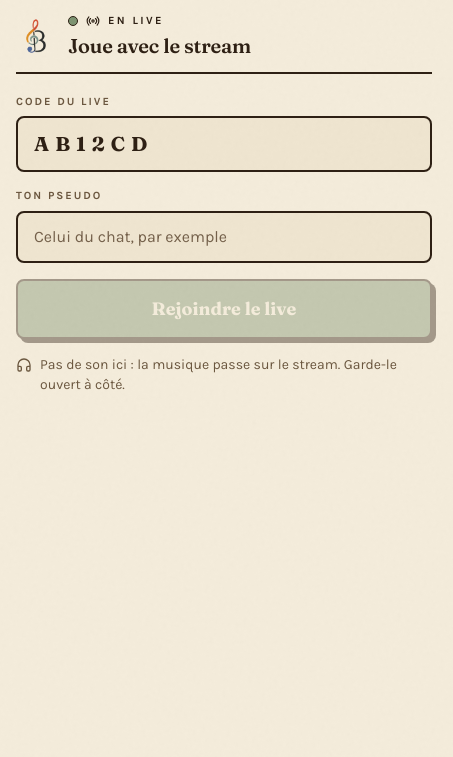
page viewer › au reveal : la reponse, son resultat et sa place
Type "Lena" into the field labelled "Ton pseudo" at (224, 236), box [16, 210, 432, 262]
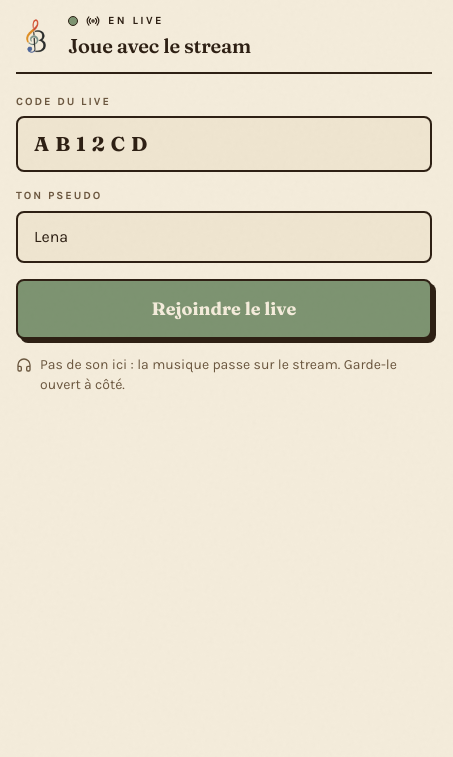
Click the button "Rejoindre le live" at (224, 308), box [16, 278, 432, 338]
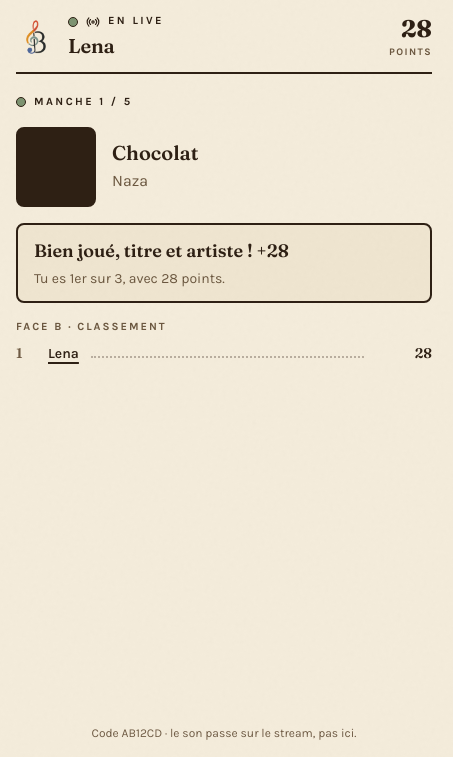
Result: the text "Chocolat" is shown at [112, 140, 199, 165]
Result: the element with test id "live-result" shows "Bien joué, titre et artiste ! +28" at [16, 222, 432, 302]
Result: the element with test id "live-result" shows "Tu es 1er sur 3, avec 28 points." at [16, 222, 432, 302]
